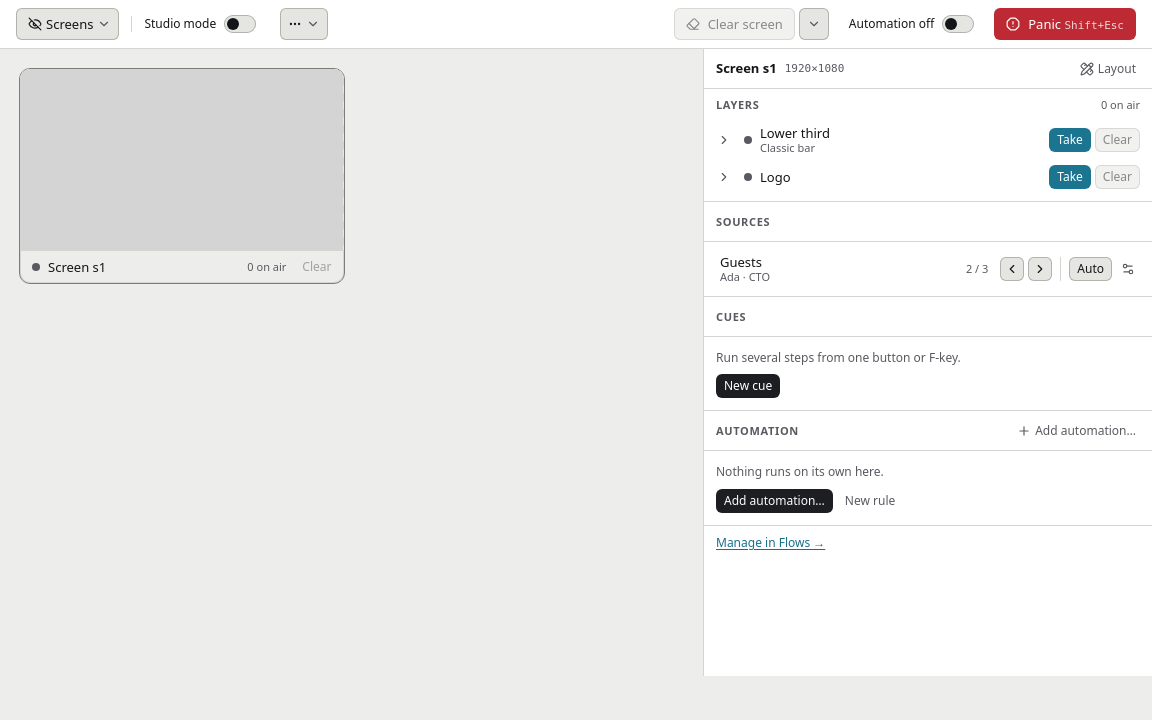
Test: Control cues › no cues: New cue opens the linear editor (lazy)
The width and height of the screenshot is (1152, 720).
What coordinates should you click on to do the following:
click the button "New cue"
I would click on:
 (748, 386)
Its box is [716,374,780,398].
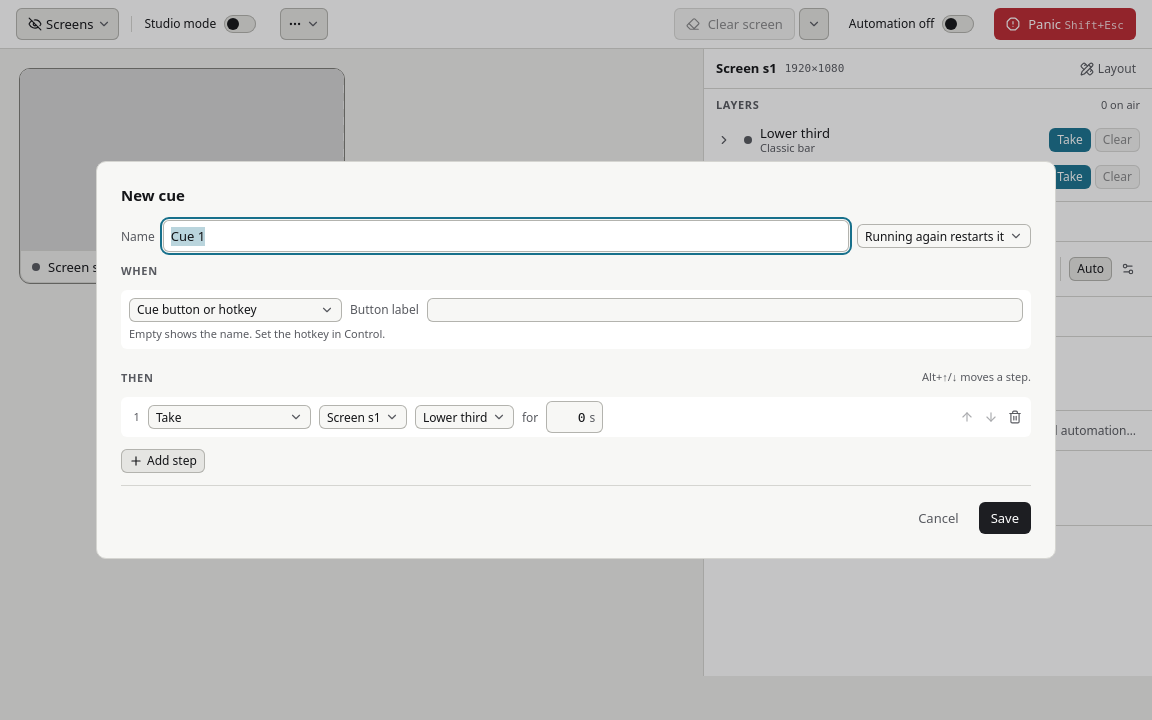
Check: the dialog "New cue" is shown, box [96,161,1056,559]
